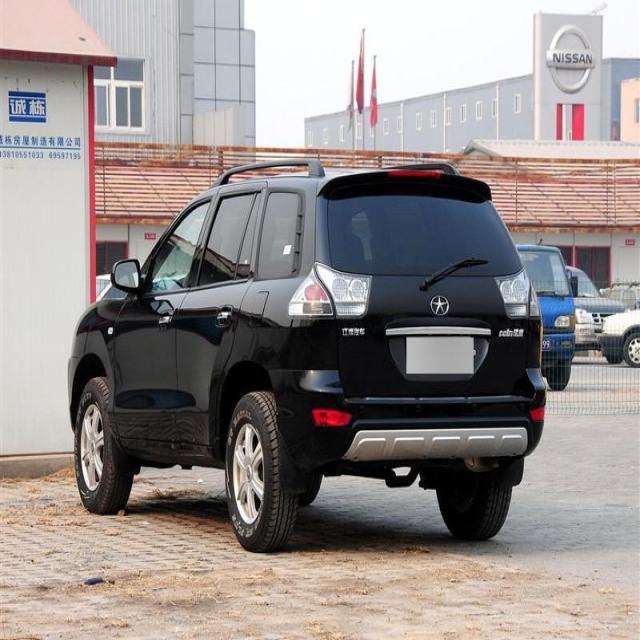back_glass: (325, 173, 525, 280)
back_left_side_light: (287, 260, 373, 320)
back_right_side_light: (492, 263, 543, 321)
door: (173, 183, 267, 451)
front_left_side_door: (108, 185, 221, 453)
front_left_side_mirror: (110, 256, 150, 297)
rear_bumper: (266, 362, 548, 464)
wheel: (226, 391, 296, 552), (74, 374, 131, 514), (434, 472, 514, 543)
